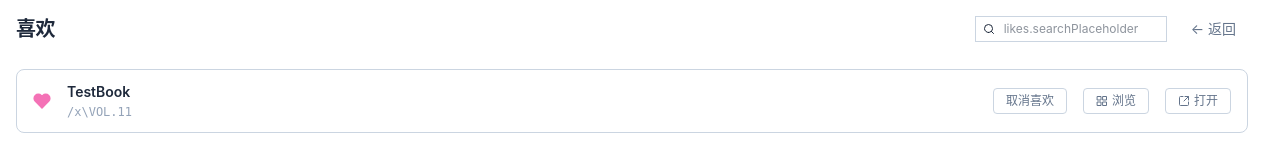
it: Likes.vue › 搜索：按书名子串过滤，无结果显示「没有匹配项」
Type "testb" into the field with test id "list-search-input" at (1071, 29), box [975,16,1167,42]
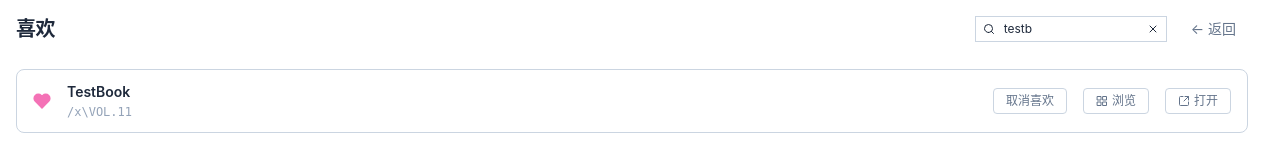
Expected: the number of list items with test id "row" is 1, [16,69,1248,133]
Replace the text in the field with test id "list-search-input" with "zzz不存在" at (1071, 29), box [975,16,1167,42]
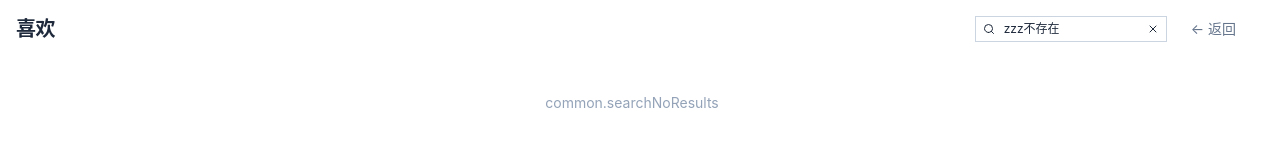
Now the text "common.searchNoResults" is shown, box [545,94,719,111]
